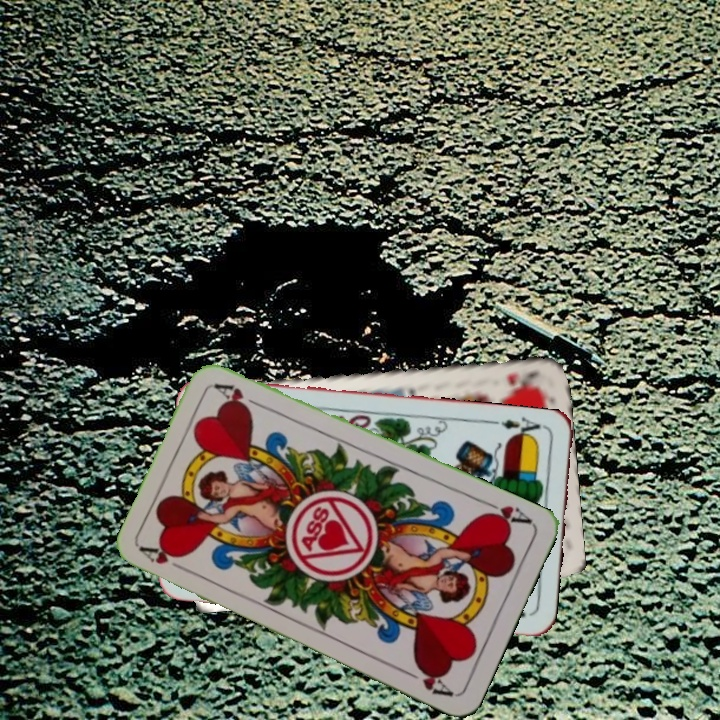EA: (490, 413, 549, 442)
HA: (138, 542, 194, 577), (478, 496, 535, 529)
HK: (502, 365, 538, 390)
